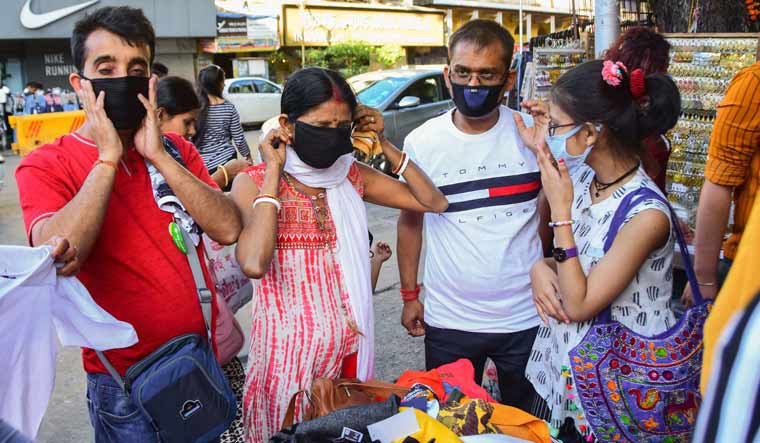mask: (67, 10, 164, 150), (543, 56, 638, 183), (278, 72, 363, 175), (441, 21, 515, 119)
noMask: (168, 77, 205, 146)
